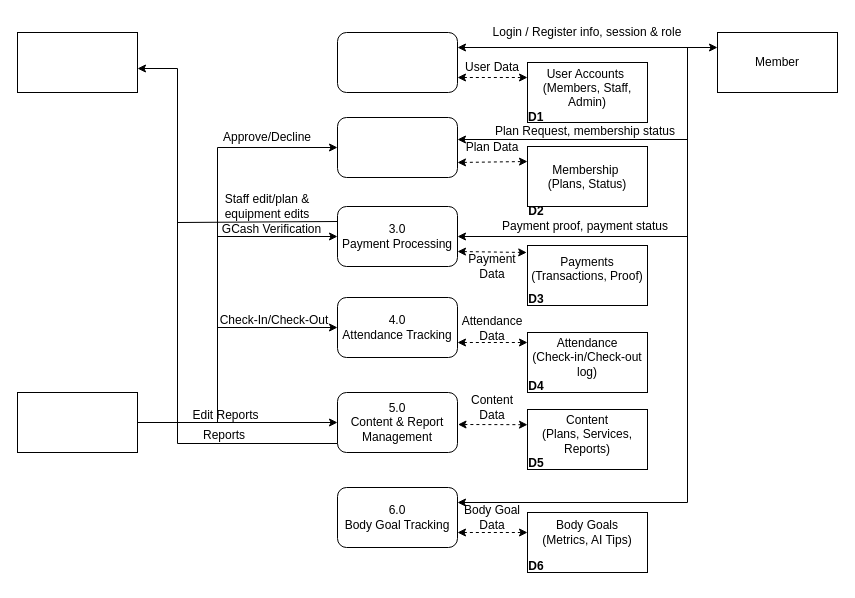
This 855x598 diagram has some shape labels left out. Here are the shapes that lost their labels. From the top down, the centre of each, then its label:
point 77,62: Admin
point 397,62: 1.0 User Authentication
point 397,147: 2.0 Membership & Plans
point 77,422: Staff
